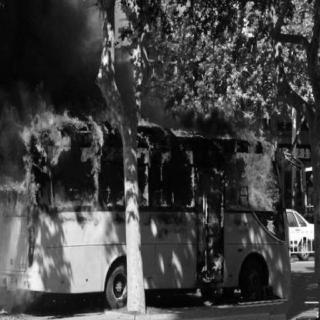Fire: (133, 107, 283, 215)
